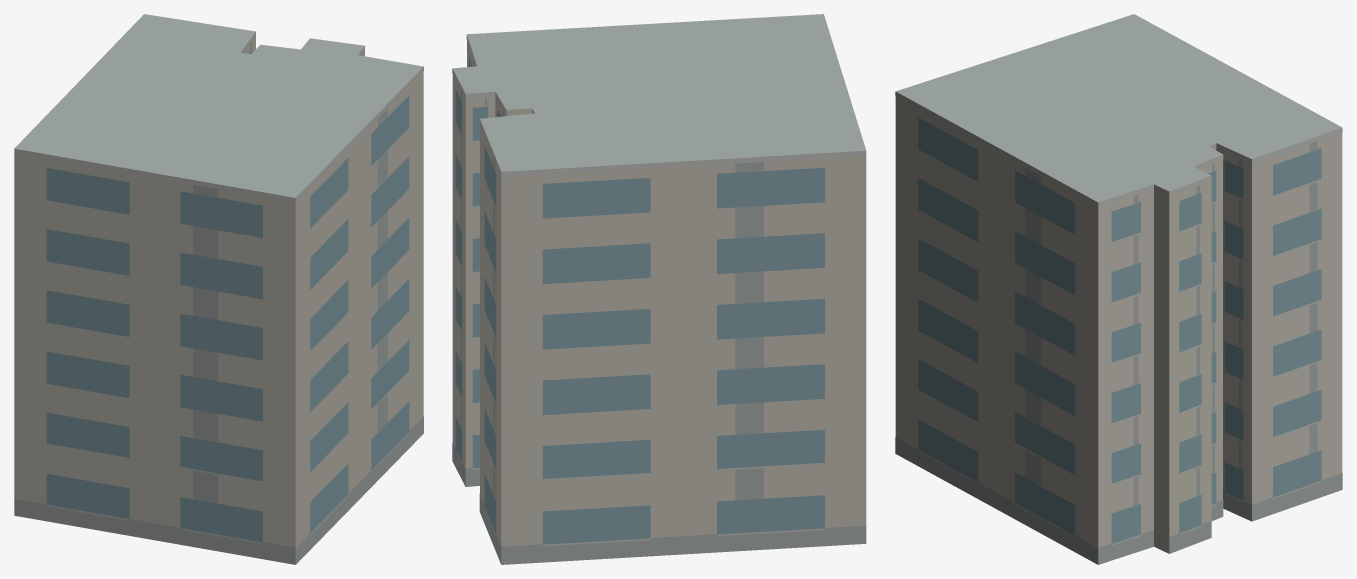
File: survey-upis-32807869.glb
3 renders of one model, left to right at view 1: azimuth 30°, elevation 25°; view 2: azimuth 150°, elevation 25°; view 3: azimuth 270°, elevation 25°, orthographic. The views are drawn at different scales.
Parts seen in each view (by area): view 1: survey-upis-32807869.tmp; view 2: survey-upis-32807869.tmp; view 3: survey-upis-32807869.tmp.
Boxes of the visible parts, bbox=[...] form: survey-upis-32807869.tmp: bbox=[14, 14, 423, 564]; survey-upis-32807869.tmp: bbox=[452, 14, 866, 564]; survey-upis-32807869.tmp: bbox=[895, 14, 1342, 564].
Size of the model in its own units: 20.43 by 18.3 by 20.46.
